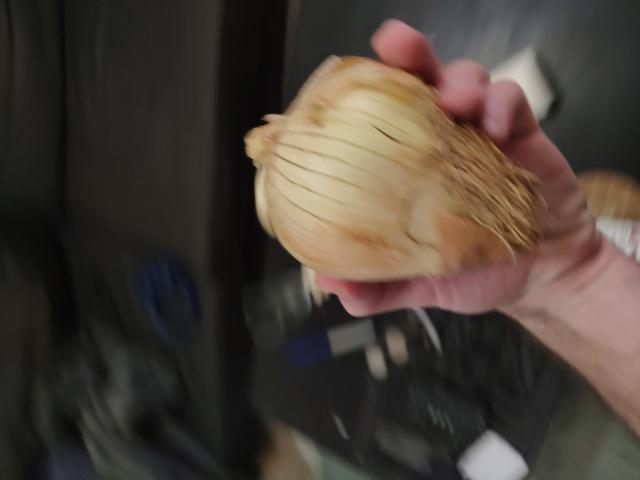onion: (248, 59, 523, 284)
